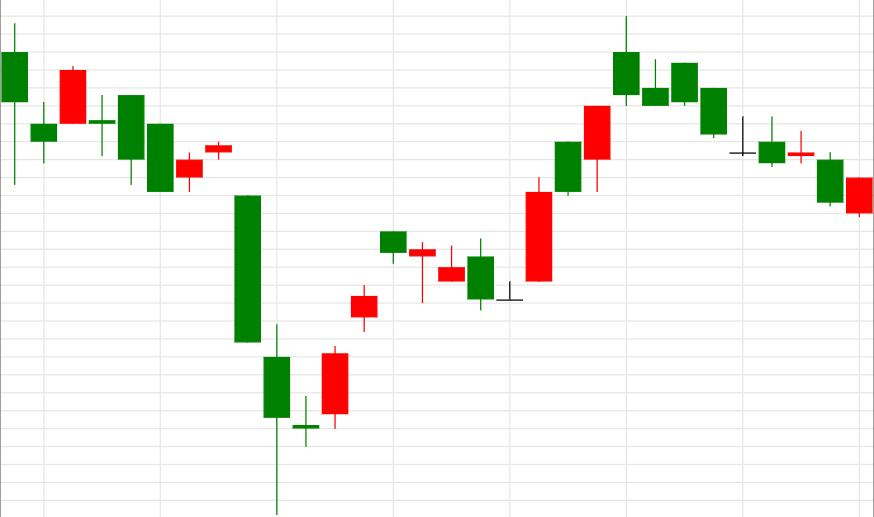morning_star_rise: (118, 95, 349, 514)
